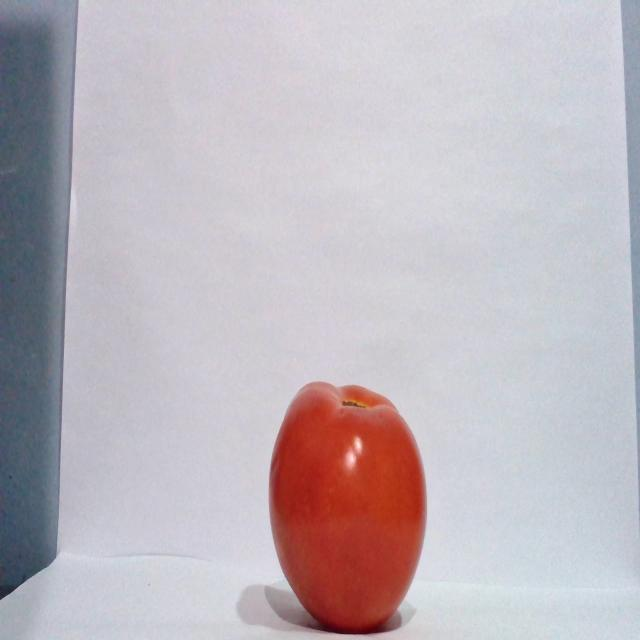Red: (266, 379, 428, 633)
